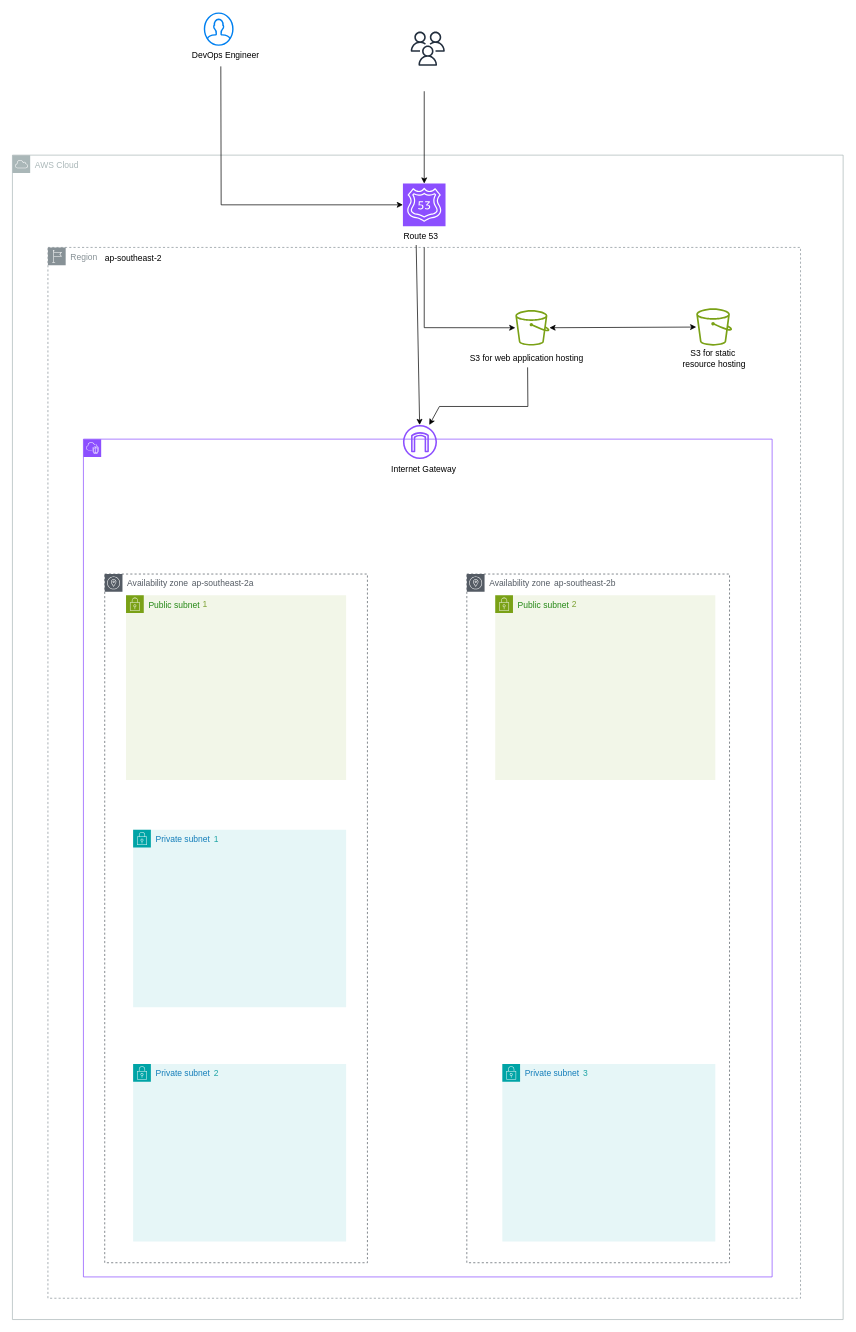
This 856x1332 diagram has some shape labels left out. The box of each missing label's shape, as (x1, y1, x2, y2) in pixels:
Users: (406, 27, 449, 70)
VPC: (83, 438, 772, 1277)
